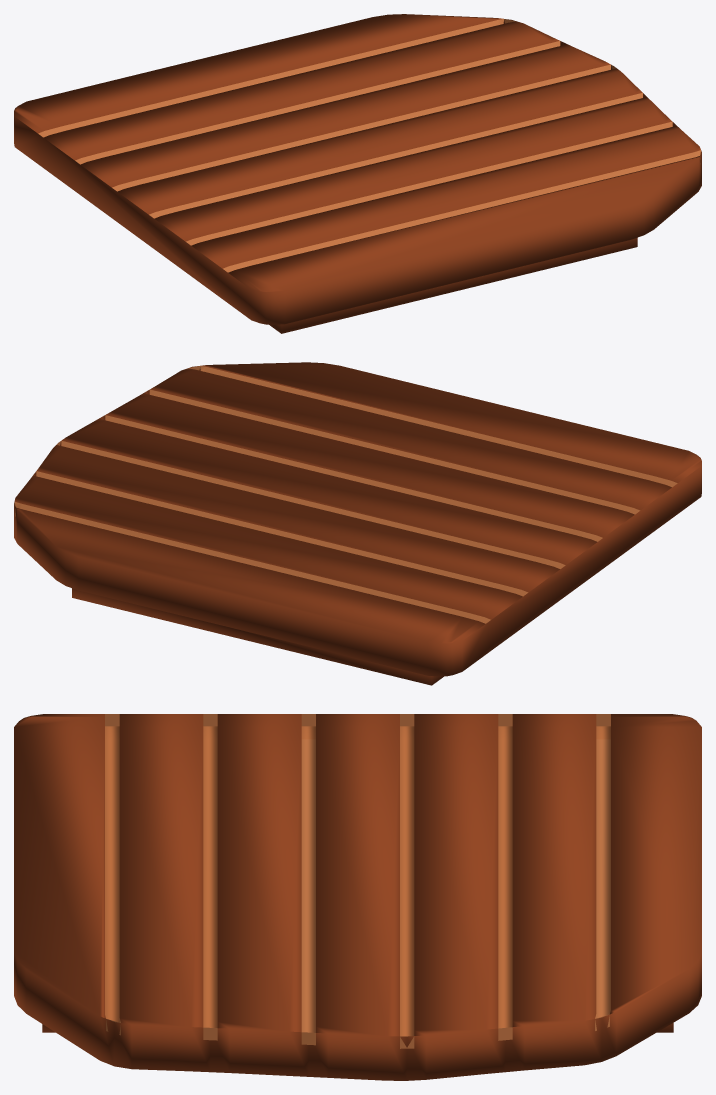
The model's file is sandalye_srt_oturak.fbx.
3 views of the same model, one above another, from view 1: azimuth 30°, elevation 25°; view 2: azimuth 150°, elevation 25°; view 3: azimuth 270°, elevation 25° (orthographic). The views are drawn at different scales.
Parts seen in each view (by area): view 1: Cylinder.004; view 2: Cylinder.004; view 3: Cylinder.004.
Part boxes in pixels (left/top/right/bottom): Cylinder.004: left=14, top=14, right=701, bottom=333; Cylinder.004: left=14, top=362, right=701, bottom=685; Cylinder.004: left=14, top=714, right=701, bottom=1080.
Bounding box in the file's own units: 117 × 11.72 × 104.
Materials: 1 (1 with a texture image).
